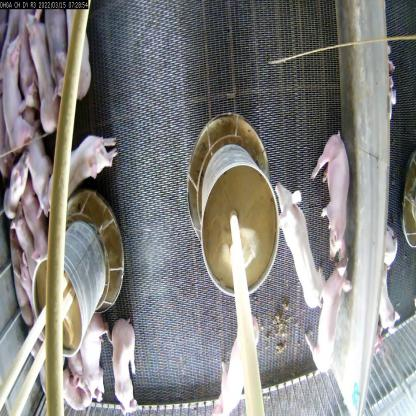Pig: (268, 175, 326, 313), (304, 132, 357, 269), (42, 130, 126, 209), (305, 258, 353, 380), (23, 12, 64, 138), (212, 313, 262, 416), (0, 33, 38, 153), (103, 312, 147, 415), (64, 1, 100, 105), (368, 258, 405, 349), (20, 5, 48, 121), (76, 316, 110, 409), (42, 5, 73, 106), (20, 135, 52, 214), (19, 185, 50, 263), (7, 209, 40, 280), (2, 153, 38, 218), (51, 365, 94, 416), (12, 250, 38, 318), (380, 217, 406, 270)
